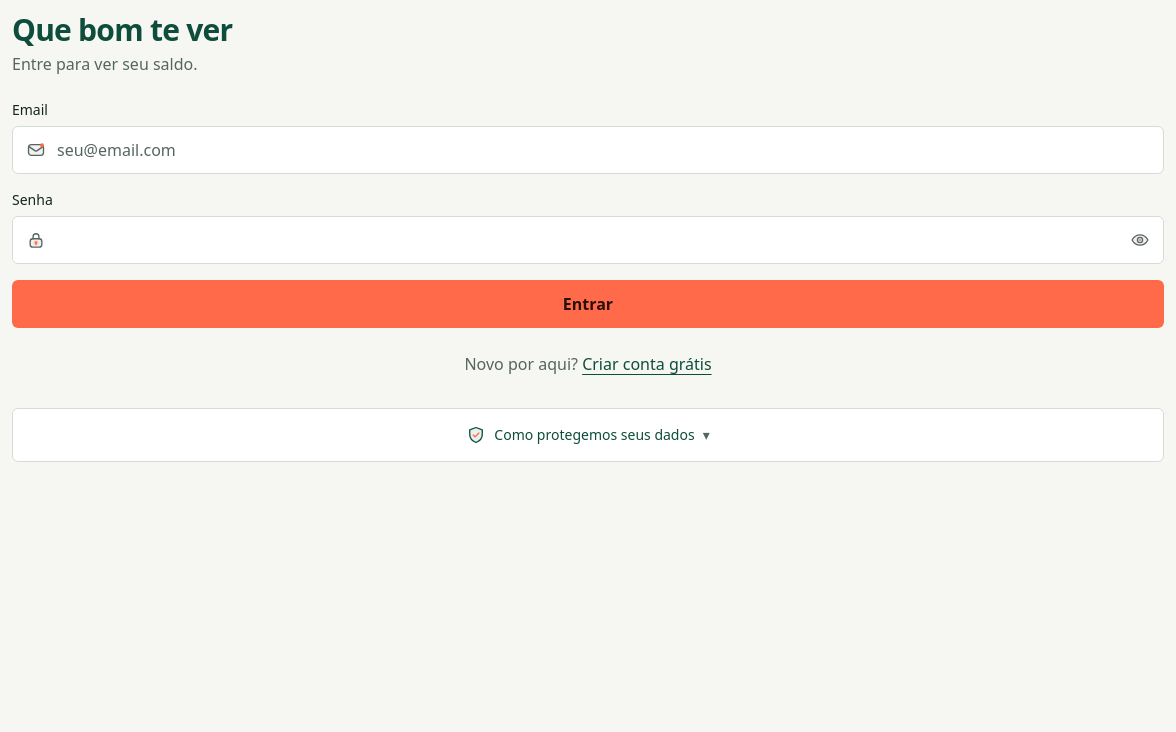
login em duas etapas › desafio vencido ou excesso de tentativas volta para a senha, com a mensagem
This screenshot has width=1176, height=732.
In the field labelled "Email": (588, 150) [12,126,1164,174], type "ana@exemplo.com"
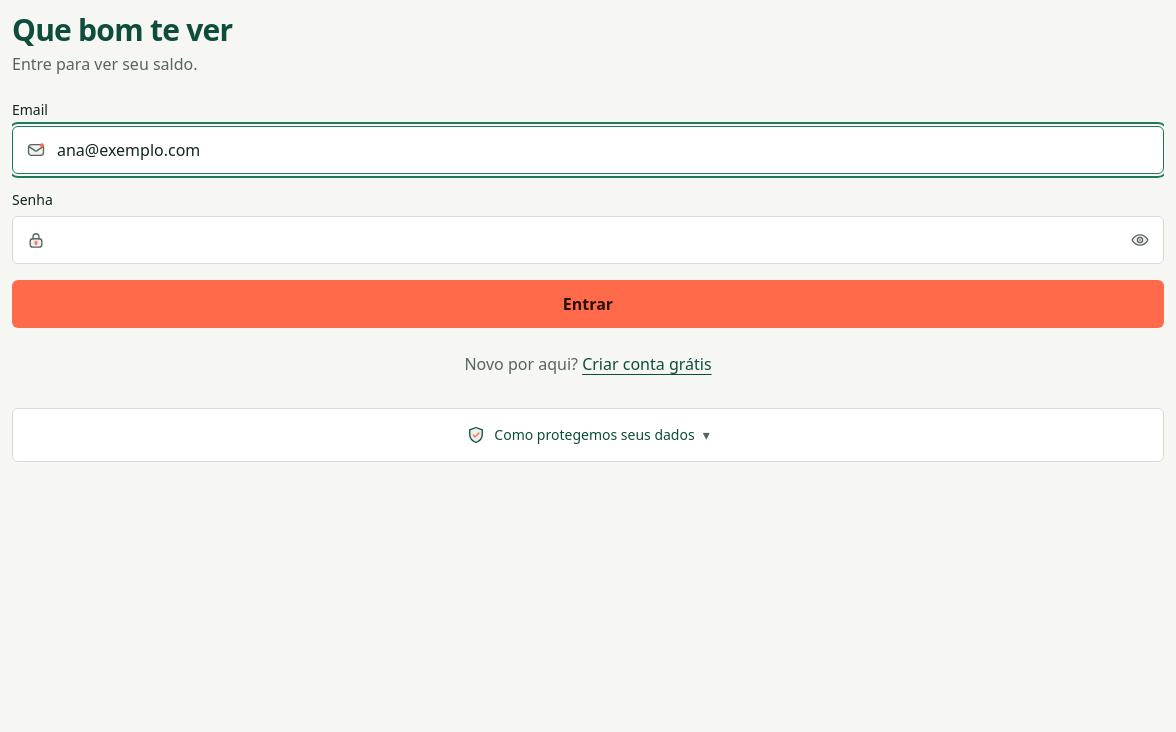
In the password field labelled "Senha": (588, 240) [12,216,1164,264], type "cavalo-azul-77"
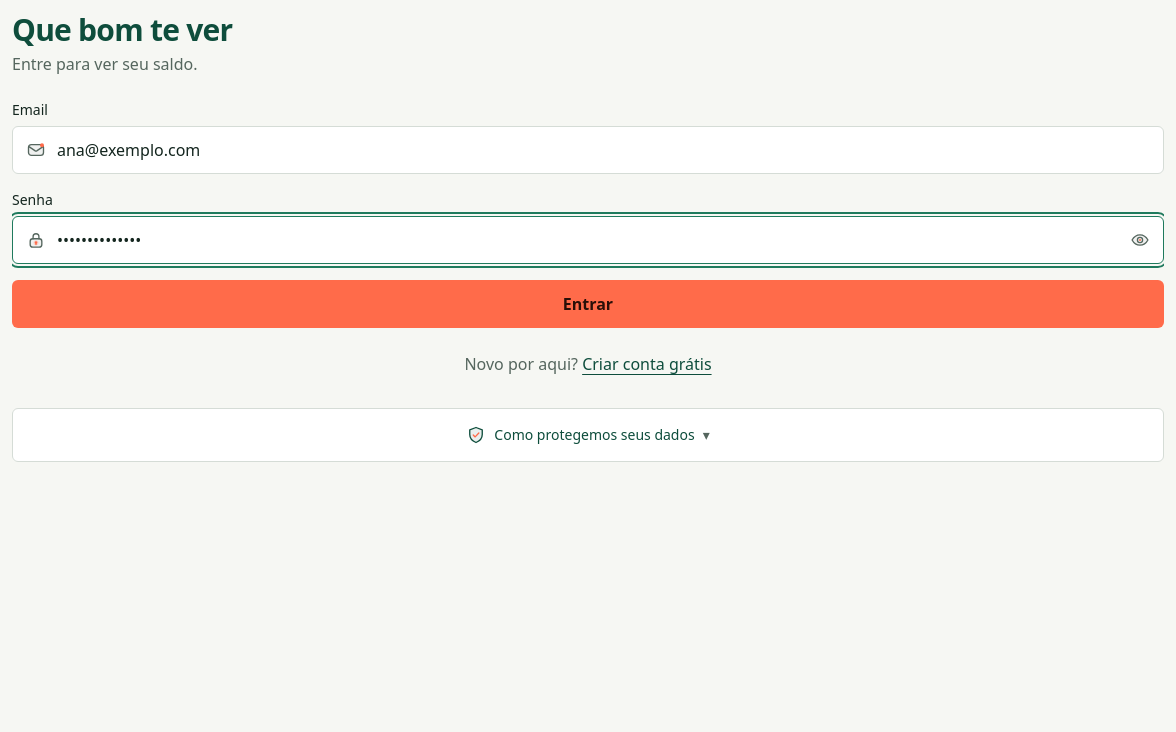
Click the button "Entrar": (588, 304) [12,280,1164,328]
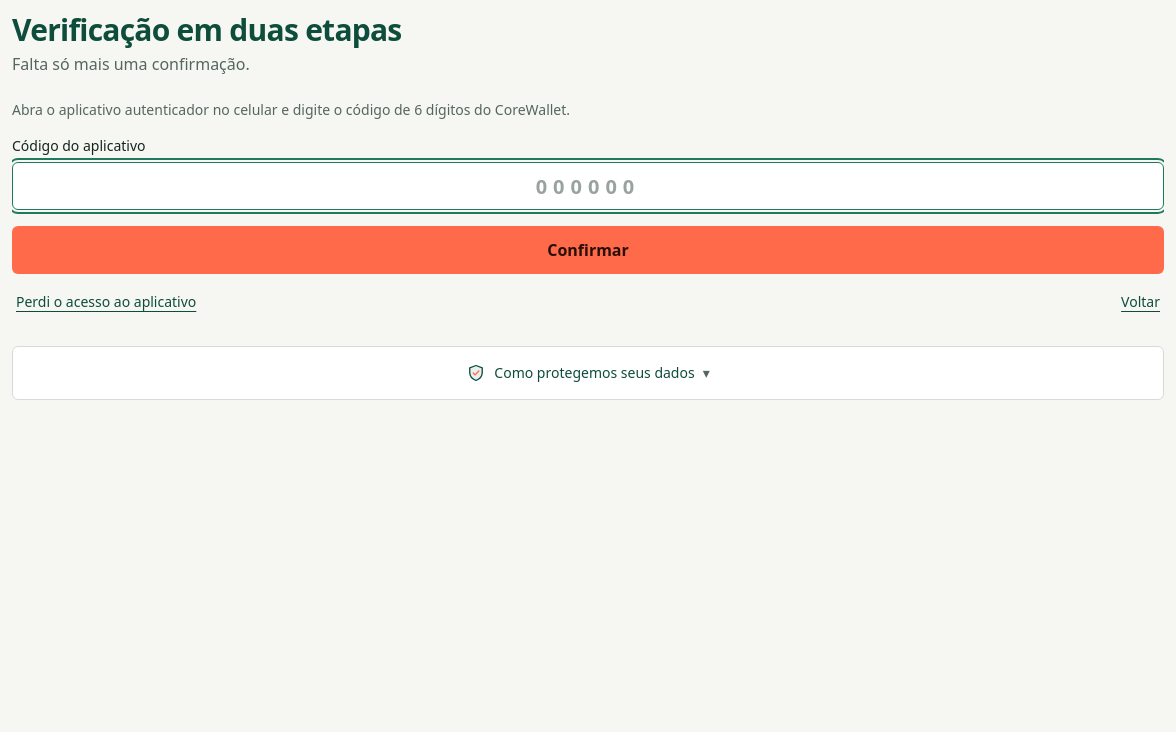
In the field labelled "Código do aplicativo": (588, 186) [12,162,1164,210], type "123456"
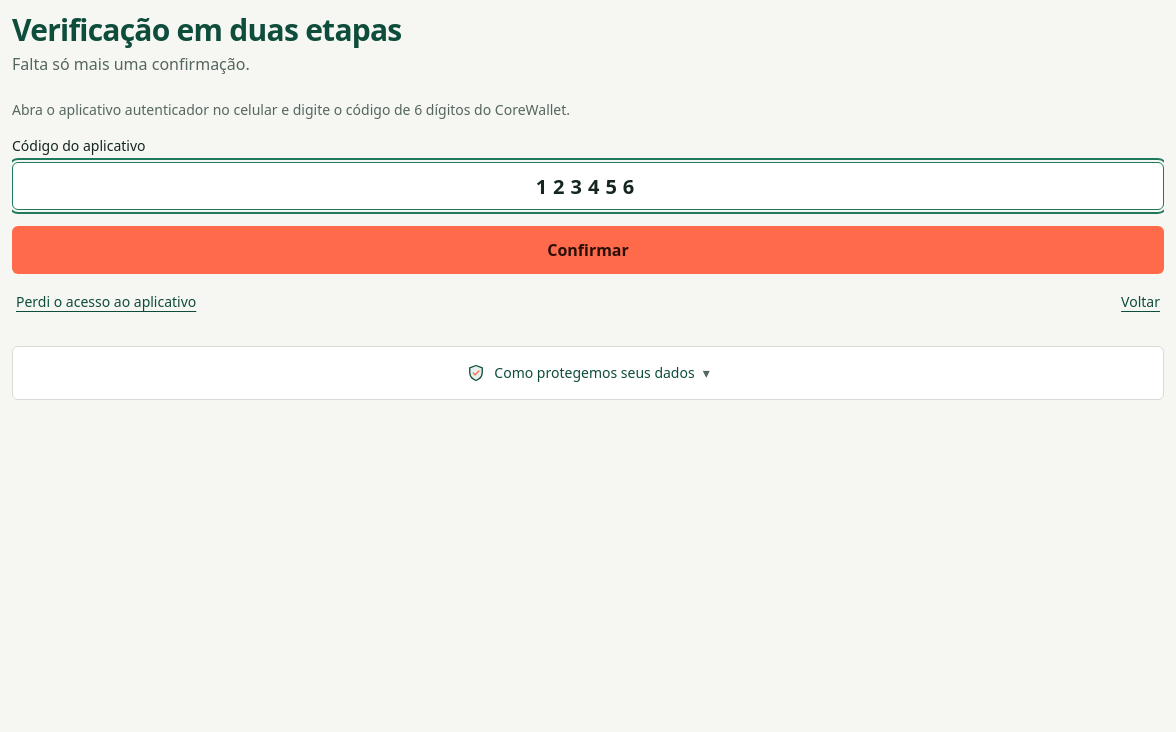
Click the button "Confirmar": (588, 250) [12,226,1164,274]
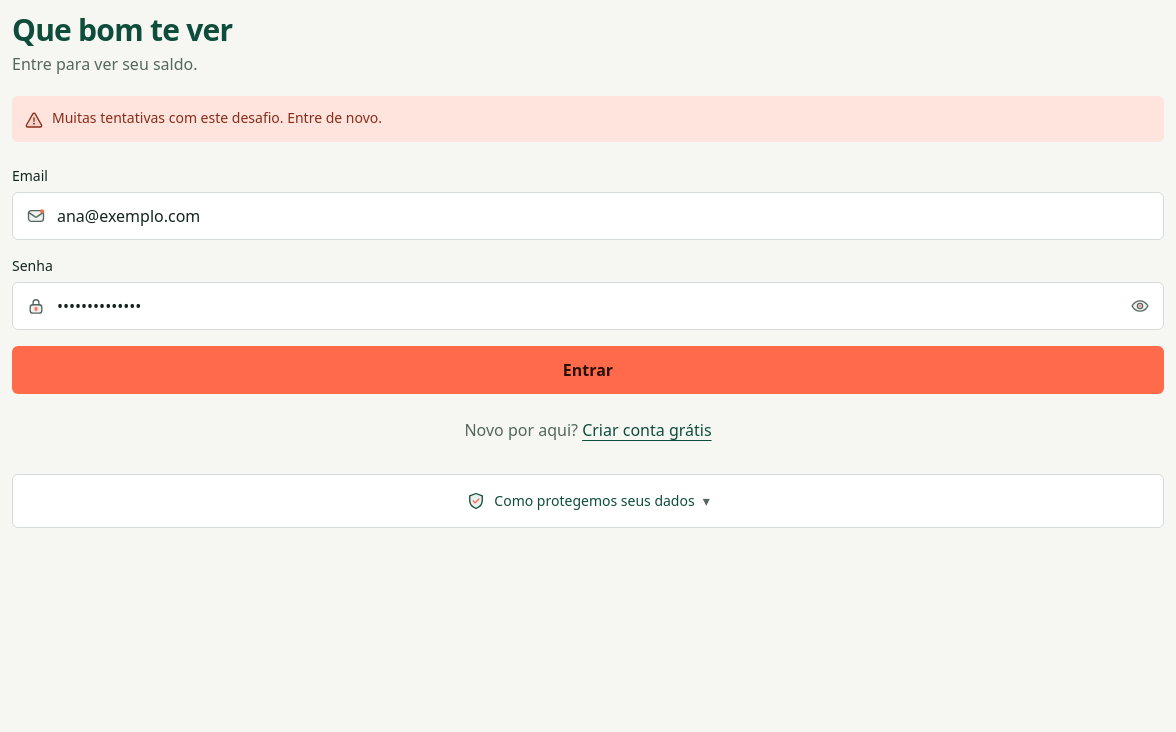
Result: the text "Muitas tentativas com este desafio. Entre de novo." is shown at [52,108,382,128]
Result: the password field labelled "Senha" is shown at [12,282,1164,330]
